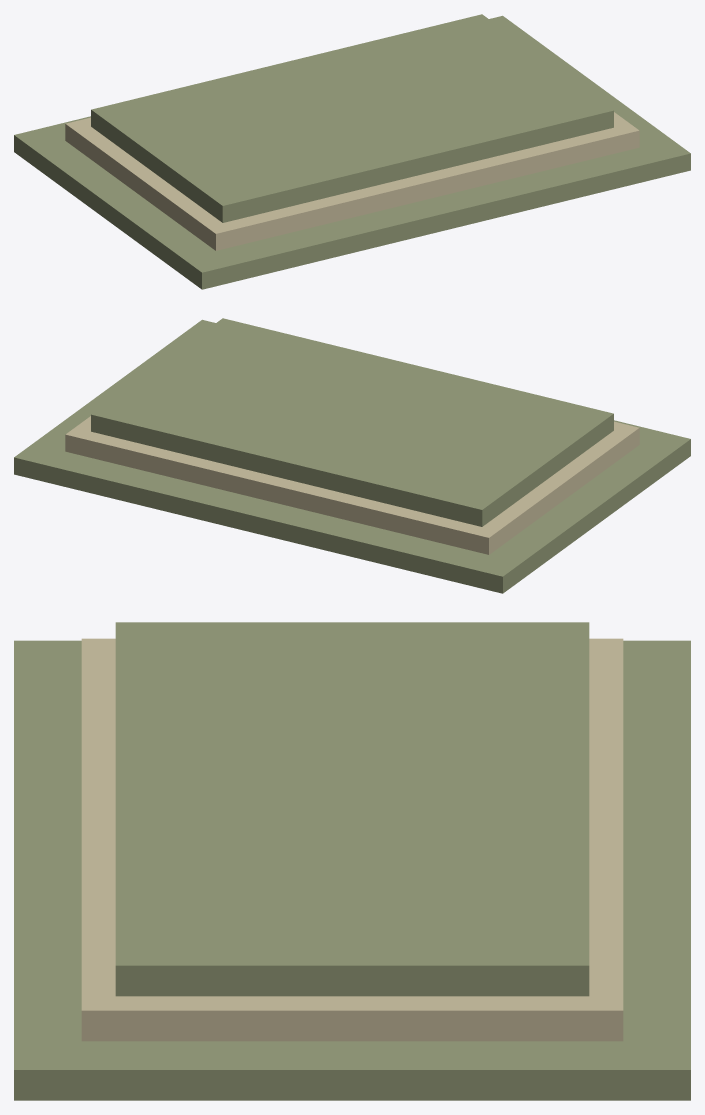
File: property-06.glb
The picture shows the model from 3 angles, top to bottom: view 1: azimuth 30°, elevation 25°; view 2: azimuth 150°, elevation 25°; view 3: azimuth 270°, elevation 25°; orthographic projection. The views are drawn at different scales.
Visible parts, largest first — view 1: Welcome mat; view 2: Welcome mat; view 3: Welcome mat.
Part boxes in pixels (left/top/right/bottom): Welcome mat: left=14, top=14, right=690, bottom=289; Welcome mat: left=14, top=318, right=690, bottom=593; Welcome mat: left=14, top=622, right=690, bottom=1100.
Size of the model in its own units: 2.4 by 0.24 by 1.6.
